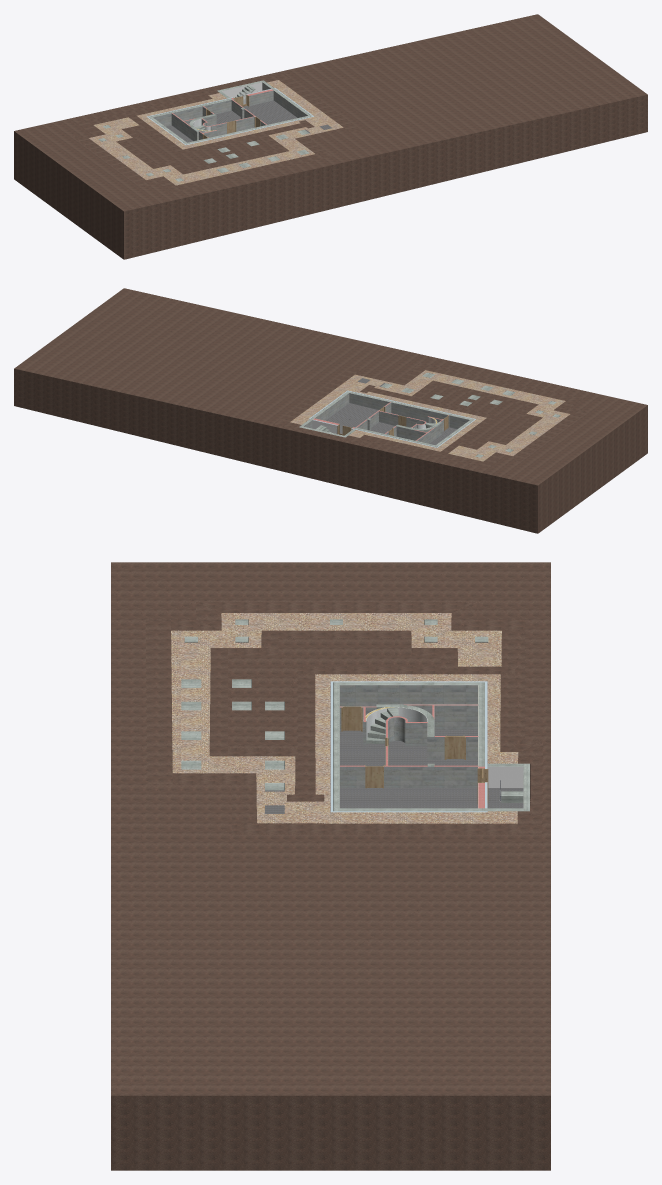
File: 02_00_CASA-BACAU_SUBSOL.glb
The picture shows the model from 3 angles, top to bottom: view 1: azimuth 30°, elevation 25°; view 2: azimuth 150°, elevation 25°; view 3: azimuth 270°, elevation 25°; orthographic projection. The views are drawn at different scales.
Parts seen in each view (by area): view 1: 3.SUBSOL; view 2: 3.SUBSOL; view 3: 3.SUBSOL.
Boxes of the visible parts, <box> form: 3.SUBSOL: <box>14,14,647,259</box>; 3.SUBSOL: <box>14,288,647,533</box>; 3.SUBSOL: <box>111,562,550,1170</box>.
Size of the model in its own units: 55 by 4.85 by 20.
Materials: 26 (18 with a texture image).
